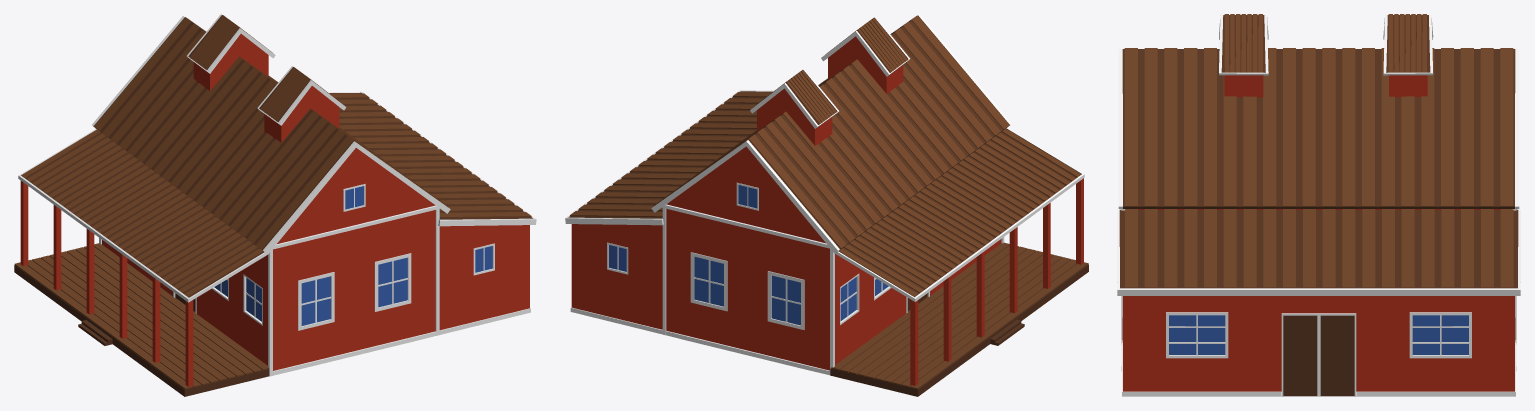
The model's file is FarmHouse_1.fbx.
3 views of the same model, side by side, from view 1: azimuth 30°, elevation 25°; view 2: azimuth 150°, elevation 25°; view 3: azimuth 270°, elevation 25° (orthographic). The views are drawn at different scales.
Visible parts, largest first — view 1: FarmHouse_1; view 2: FarmHouse_1; view 3: FarmHouse_1.
Part boxes in pixels (x1,y1,x2,y2): FarmHouse_1: [14, 14, 536, 396]; FarmHouse_1: [565, 14, 1088, 396]; FarmHouse_1: [1117, 14, 1520, 396].
Size of the model in its own units: 796 by 520 by 672.
